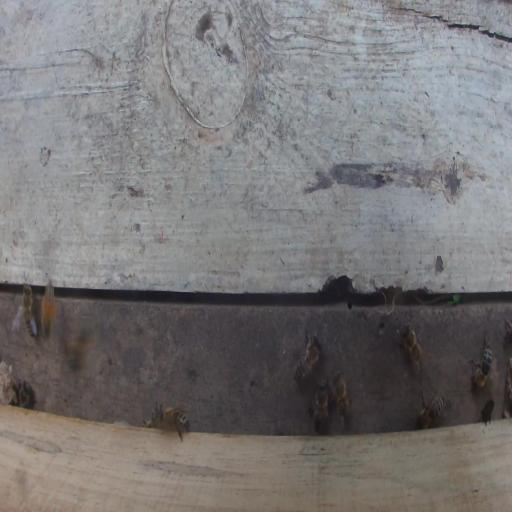nonpollenbee: (10, 281, 38, 338), (293, 332, 321, 385), (468, 334, 492, 390), (399, 322, 423, 375), (415, 394, 452, 428), (331, 369, 350, 424), (162, 406, 191, 442), (313, 378, 329, 432), (12, 380, 33, 407), (143, 402, 162, 428), (477, 398, 494, 425)
pollenbee: (40, 278, 58, 340)
